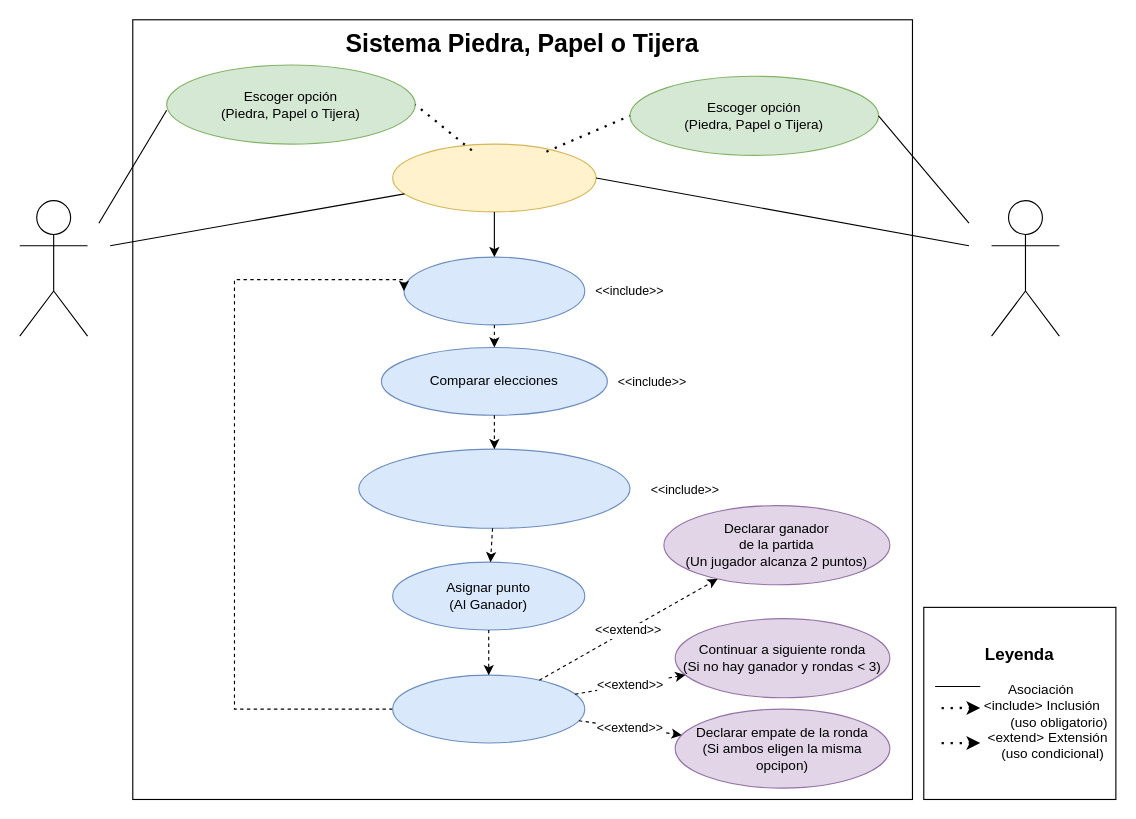
Image size: 1136x819. Some labels were removed from this diagram. The box of each missing label's shape, as (x1, y1, x2, y2) in pixels:
Determinar ganador de la ronda: (358, 448, 630, 528)
Iniciar partida: (392, 143, 596, 212)
Jugar ronda: (403, 256, 585, 325)
Verificar marcador (Puntos y Rondas): (392, 674, 585, 743)
